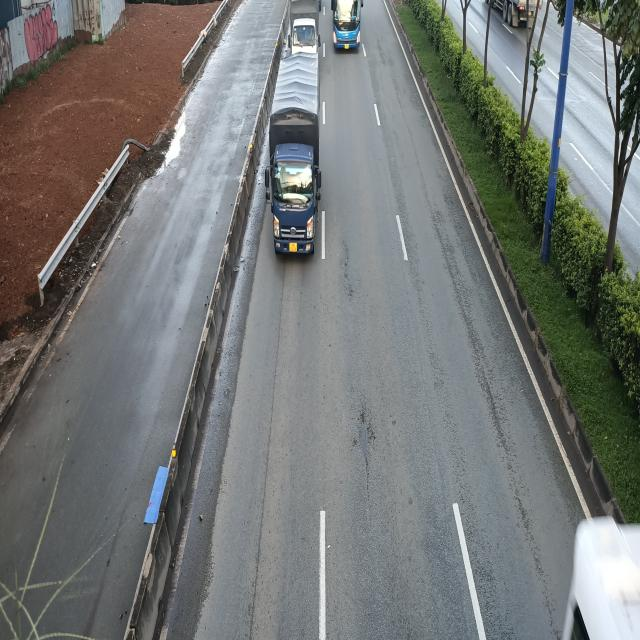coach: (332, 0, 363, 51)
truck: (262, 46, 322, 259)
